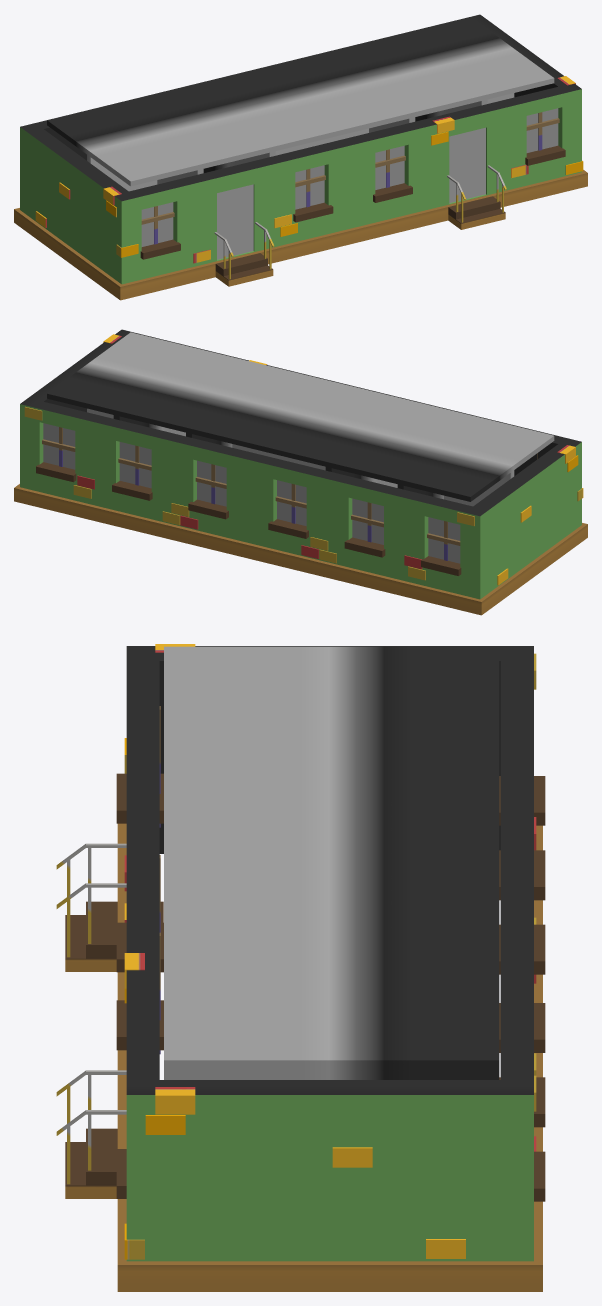
File: House_1_bot.fbx
The picture shows the model from 3 angles, top to bottom: view 1: azimuth 30°, elevation 25°; view 2: azimuth 150°, elevation 25°; view 3: azimuth 270°, elevation 25°; orthographic projection. The views are drawn at different scales.
Visible parts, largest first — view 1: polySurface284, polySurface286, polySurface2, polySurface140, polySurface33, polySurface171, polySurface150, polySurface12; view 2: polySurface284, polySurface286, polySurface195, polySurface45, polySurface57, polySurface183, polySurface207, polySurface69; view 3: polySurface286, polySurface284, polySurface140, polySurface2, polySurface110, polySurface118, polySurface111.
Part boxes in pixels (bbox=[...]): polySurface284: bbox=[14, 14, 587, 300]; polySurface286: bbox=[47, 17, 554, 191]; polySurface2: bbox=[448, 196, 505, 229]; polySurface140: bbox=[215, 253, 273, 286]; polySurface33: bbox=[525, 145, 565, 165]; polySurface171: bbox=[140, 239, 180, 259]; polySurface150: bbox=[293, 202, 333, 222]; polySurface12: bbox=[373, 183, 412, 202]; polySurface284: bbox=[14, 329, 587, 615]; polySurface286: bbox=[47, 332, 554, 506]; polySurface195: bbox=[344, 537, 385, 557]; polySurface45: bbox=[36, 462, 76, 482]; polySurface57: bbox=[112, 481, 152, 500]; polySurface183: bbox=[421, 556, 461, 575]; polySurface207: bbox=[268, 519, 308, 538]; polySurface69: bbox=[188, 499, 228, 519]; polySurface286: bbox=[164, 646, 499, 1079]; polySurface284: bbox=[117, 646, 542, 1291]; polySurface140: bbox=[65, 901, 163, 971]; polySurface2: bbox=[65, 1128, 117, 1198]; polySurface110: bbox=[155, 1087, 195, 1114]; polySurface118: bbox=[332, 1147, 372, 1167]; polySurface111: bbox=[145, 1115, 185, 1134].
Bounding box in the file's own units: 2783 × 598 × 1259.
